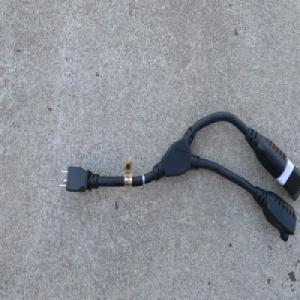Wire: (58, 110, 300, 243)
